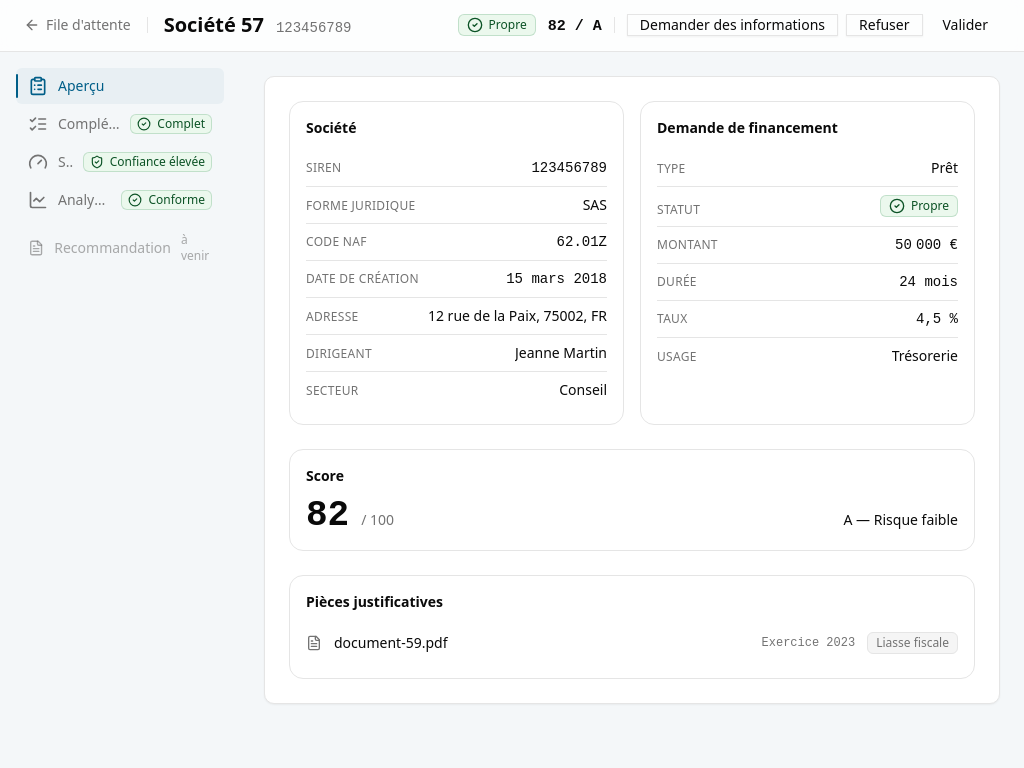
Test: Workspace — Analyse section › shows the all-clear message when there are no anomalies
The image size is (1024, 768).
Click the button "Analyse financière Conforme" at (120, 200), box [16,182,224,218]
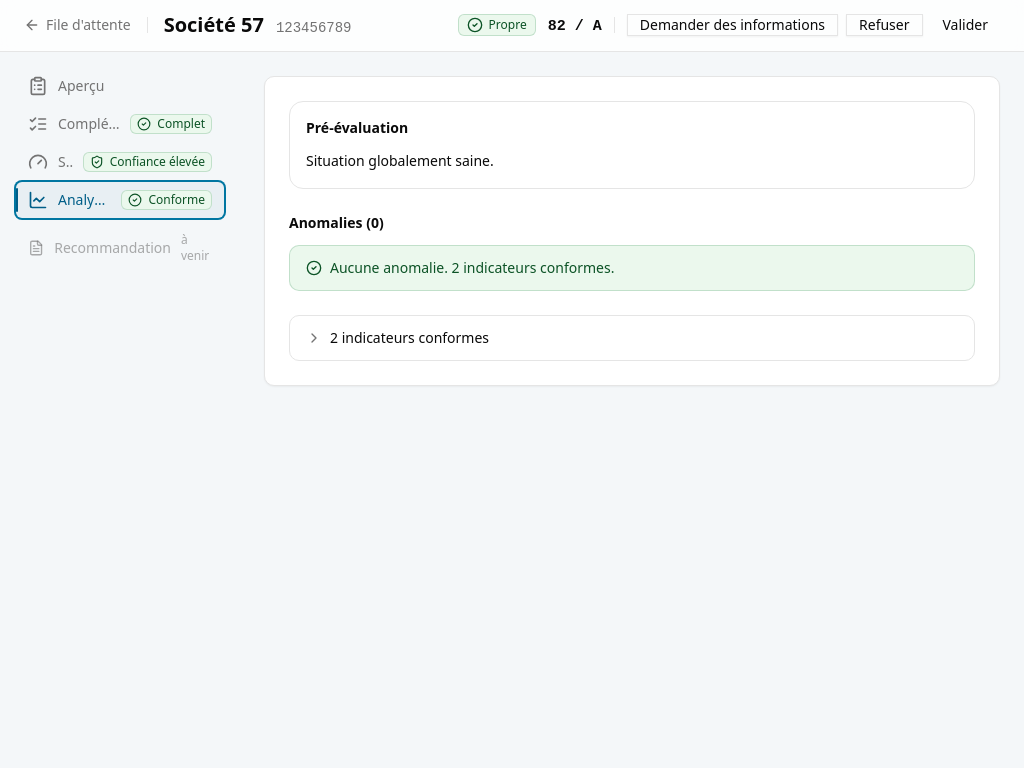
Now the heading "Anomalies (0)" is shown, box [289,213,384,232]
Now the text "Aucune anomalie. 2 indicateurs conformes." is shown, box [289,245,975,291]
